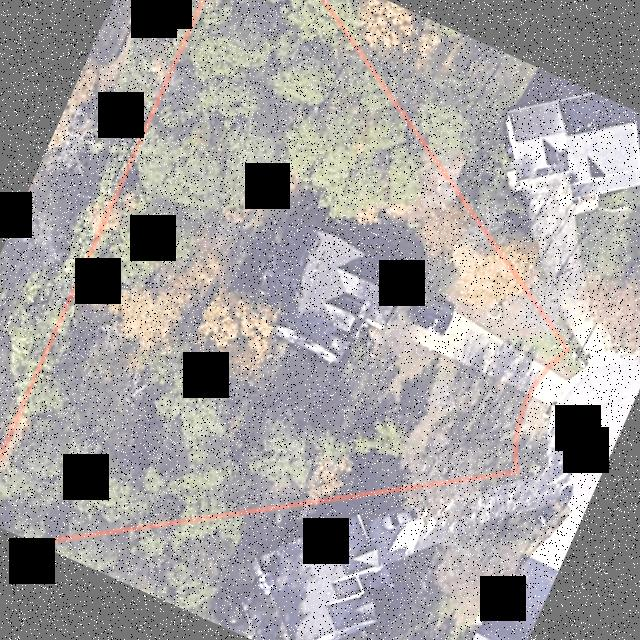Driveway: (387, 286, 549, 395)
Extra Driveway: (531, 369, 571, 407)
Extra Lawn: (517, 395, 550, 473), (550, 351, 583, 379)
House: (267, 230, 405, 367)
